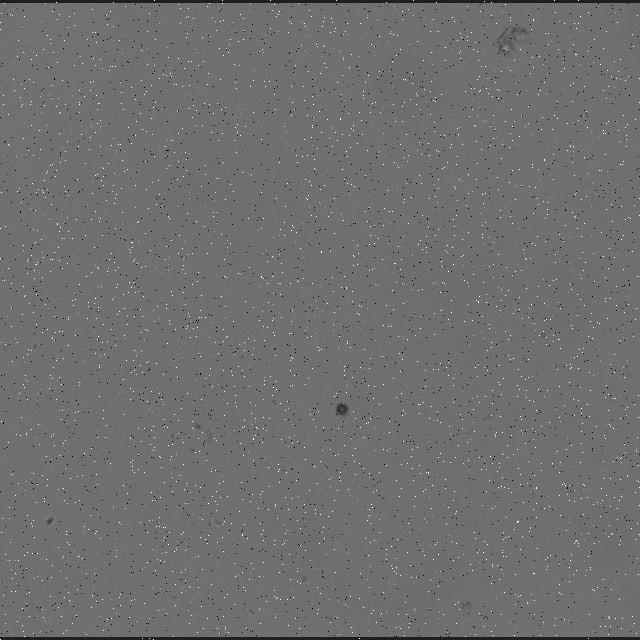microbeads: (333, 399, 351, 418)
